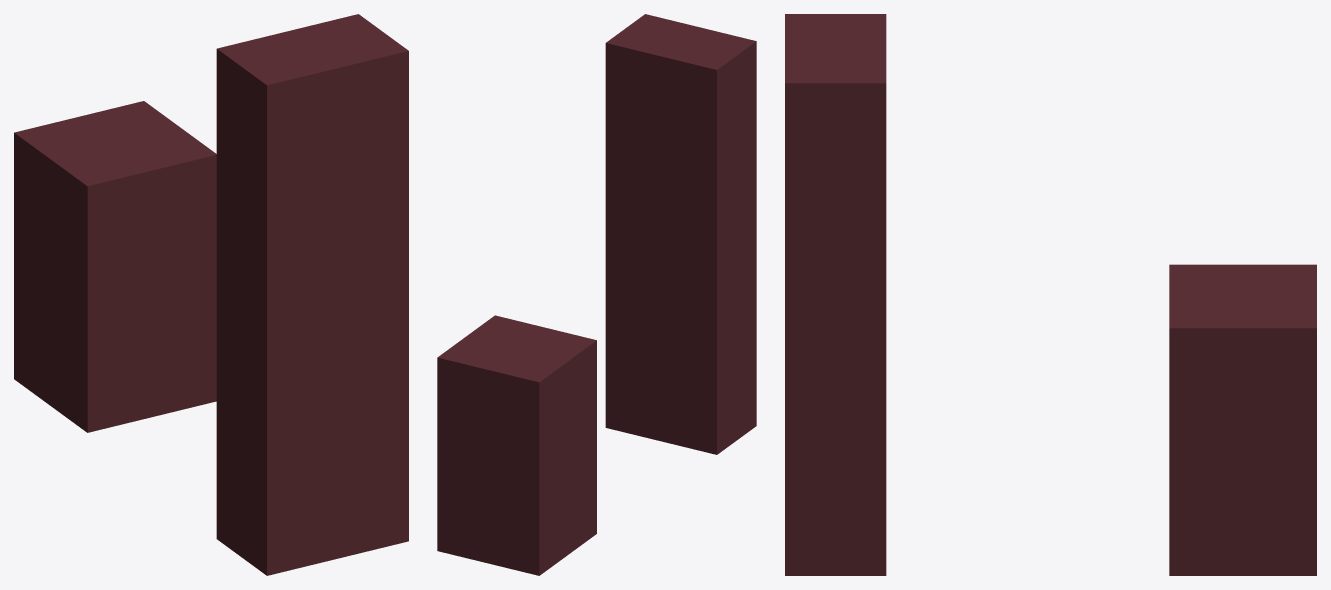
File: BuildingsE_BuildingRed.fbx
3 views of the same model, side by side, from view 1: azimuth 30°, elevation 25°; view 2: azimuth 150°, elevation 25°; view 3: azimuth 270°, elevation 25° (orthographic). The views are drawn at different scales.
Visible parts, largest first — view 1: BldgE3.001; view 2: BldgE3.001; view 3: BldgE3.001.
Boxes of the visible parts, <box> form: BldgE3.001: <box>14,14,408,575</box>; BldgE3.001: <box>437,14,756,575</box>; BldgE3.001: <box>785,14,1316,575</box>.
Size of the model in its own units: 2680 by 8856 by 8667.
